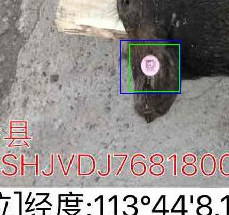text: (129, 44, 179, 91)
